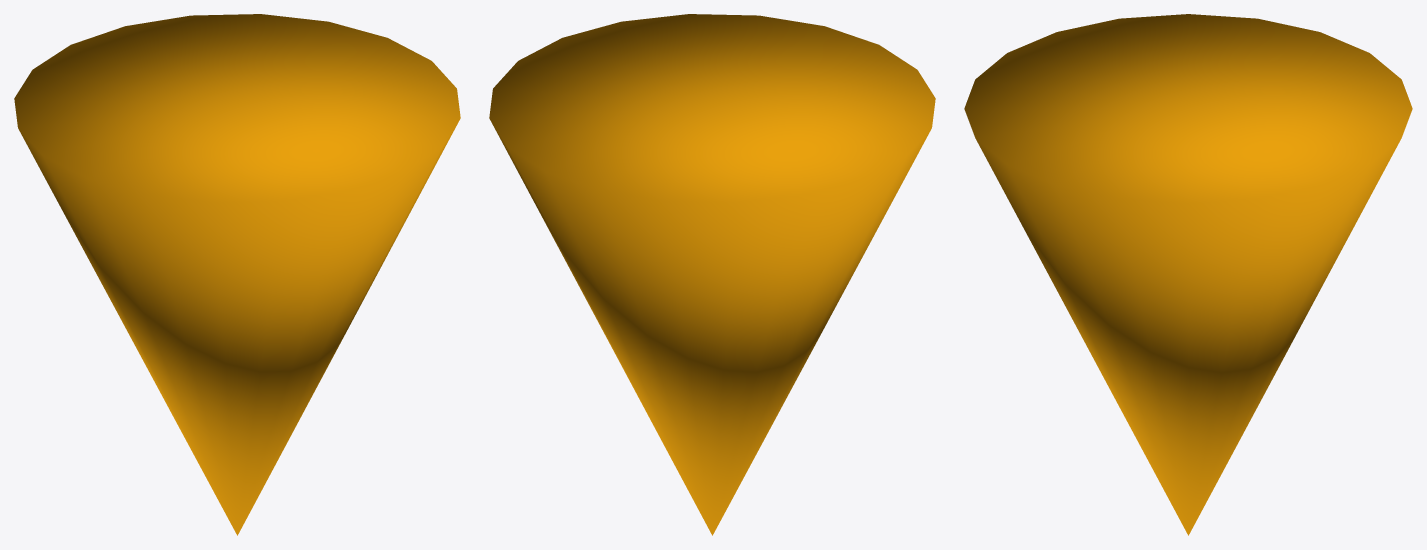
The model's file is enemy_point.fbx.
3 views of the same model, side by side, from view 1: azimuth 30°, elevation 25°; view 2: azimuth 150°, elevation 25°; view 3: azimuth 270°, elevation 25° (orthographic).
Visible parts, largest first — view 1: obj1; view 2: obj1; view 3: obj1.
Boxes of the visible parts, x1=… form: obj1: x1=14, y1=14, x2=460, y2=535; obj1: x1=489, y1=14, x2=935, y2=535; obj1: x1=964, y1=14, x2=1412, y2=535.
Size of the model in its own units: 200 by 210 by 200.
